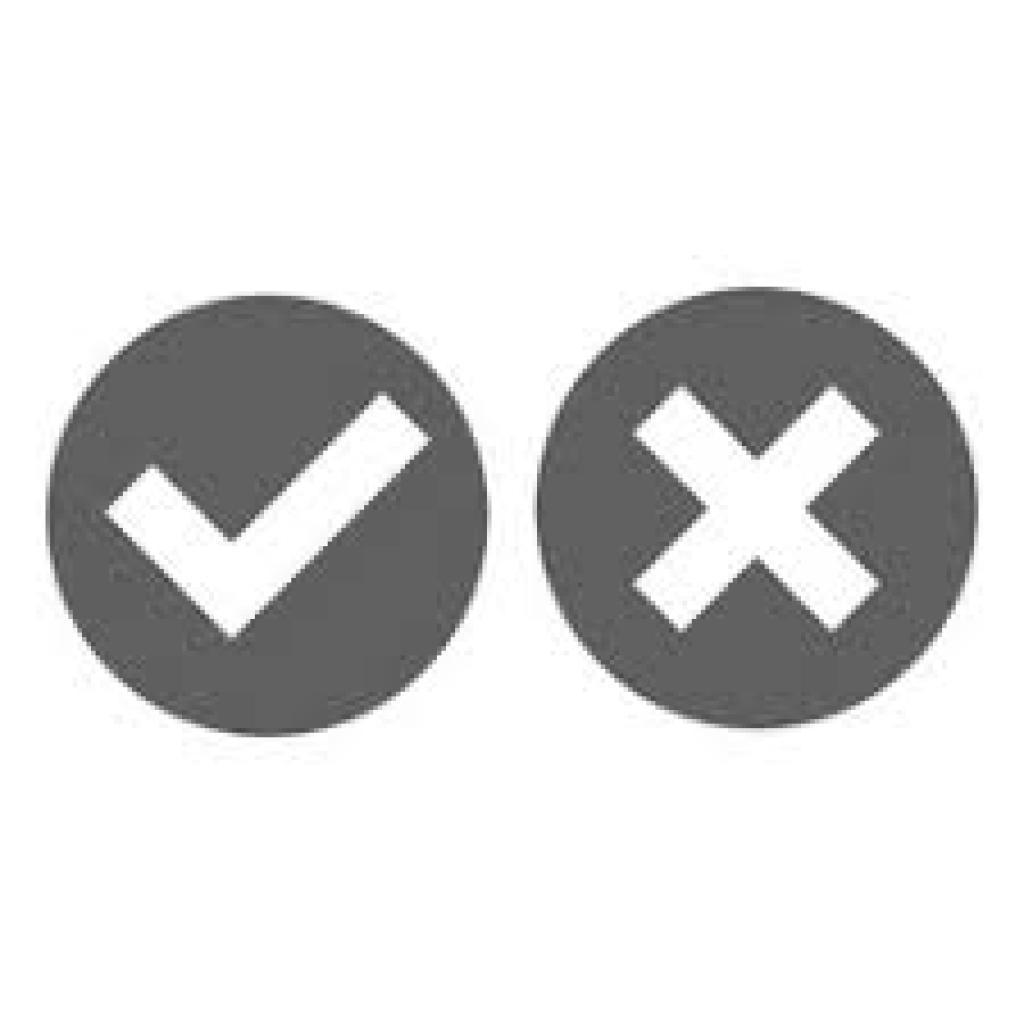checkbox: (47, 275, 493, 743), (533, 285, 983, 731)
